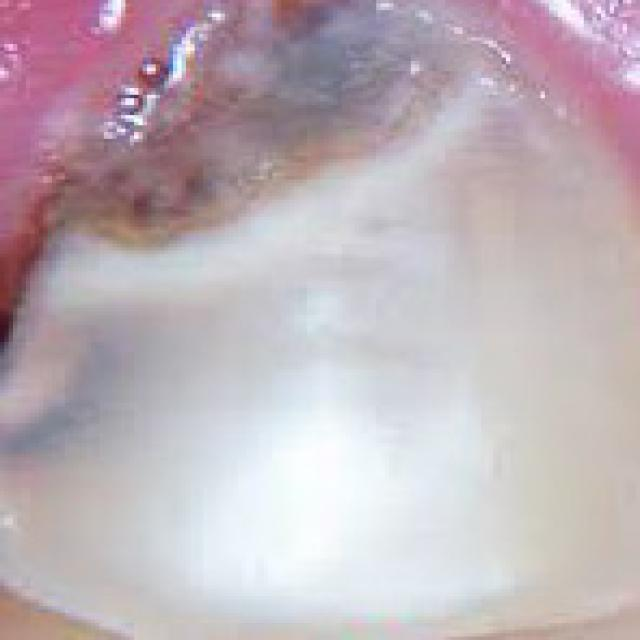Carrier: (35, 0, 505, 254)
